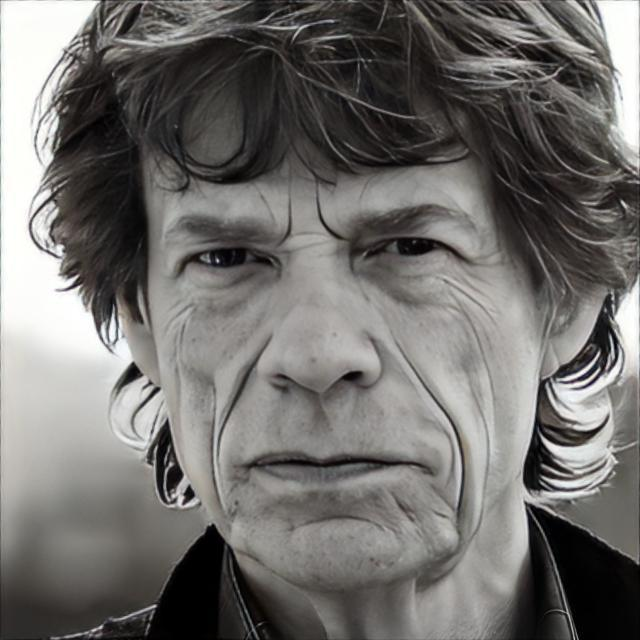anger: (142, 52, 546, 592)
